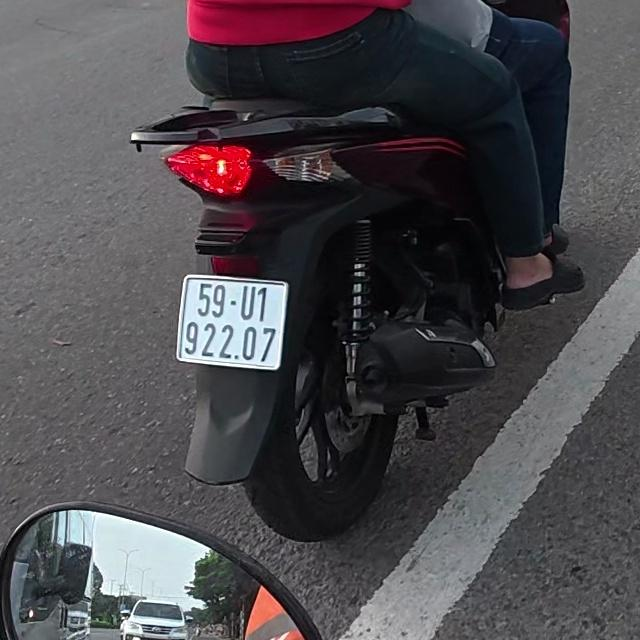license-plate: (176, 272, 290, 371)
